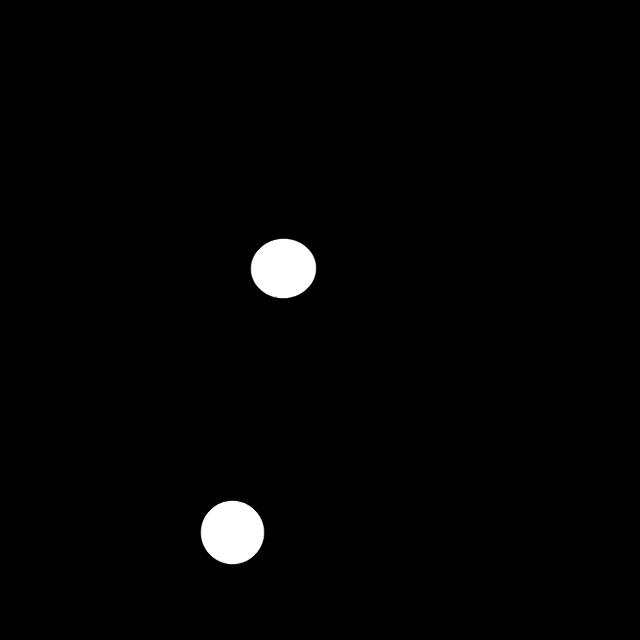Circle: (194, 491, 269, 571), (244, 229, 323, 304)
